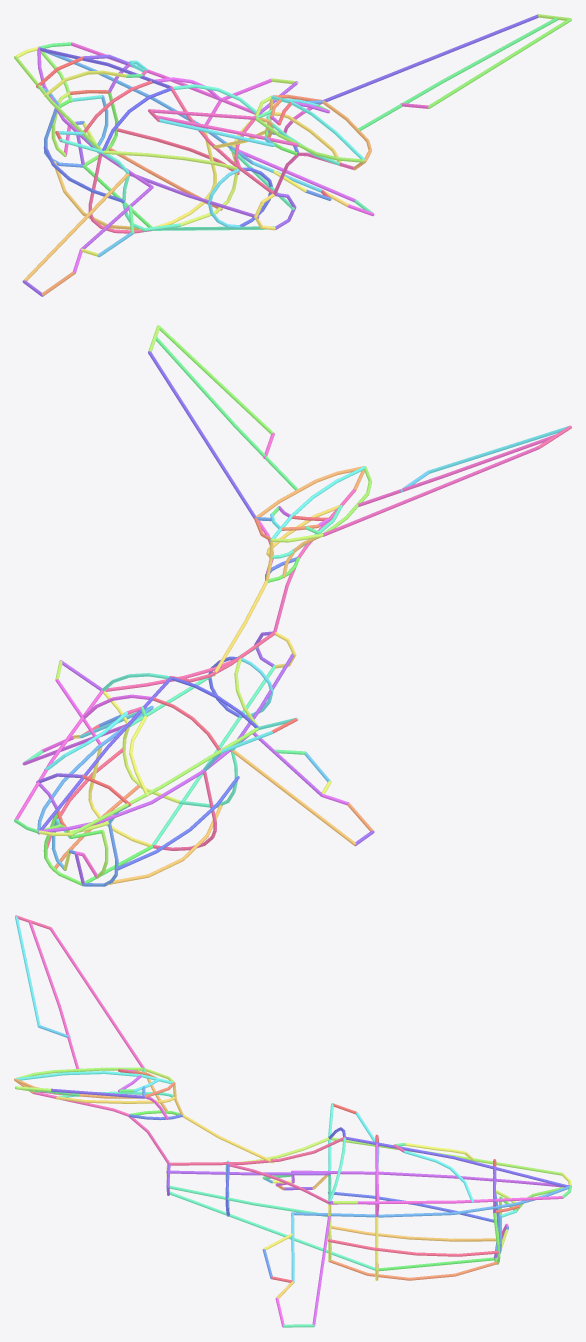
Rendered from ils_spacecraft_29.gltf.
The picture shows the model from 3 angles, top to bottom: view 1: azimuth 30°, elevation 25°; view 2: azimuth 150°, elevation 25°; view 3: azimuth 270°, elevation 25°; orthographic projection. The views are drawn at different scales.
Size of the model in its own units: 0.545 by 0.3988 by 0.7462.
